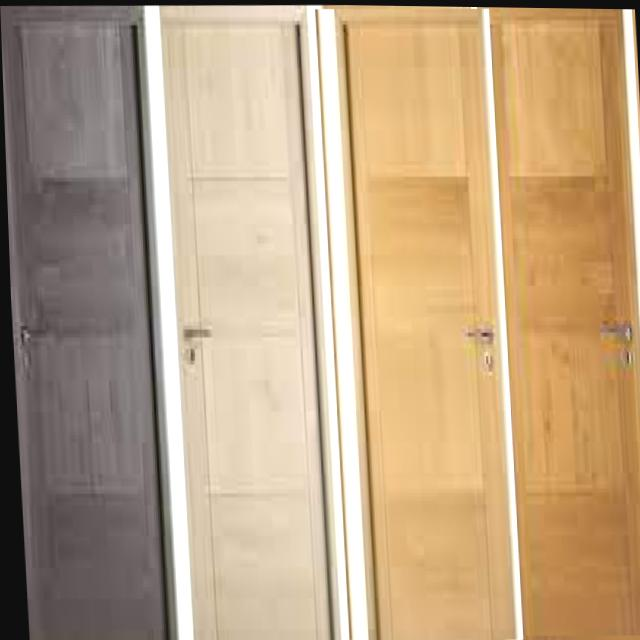close: (314, 4, 520, 639), (150, 5, 345, 639), (0, 2, 179, 639), (476, 5, 639, 638)
